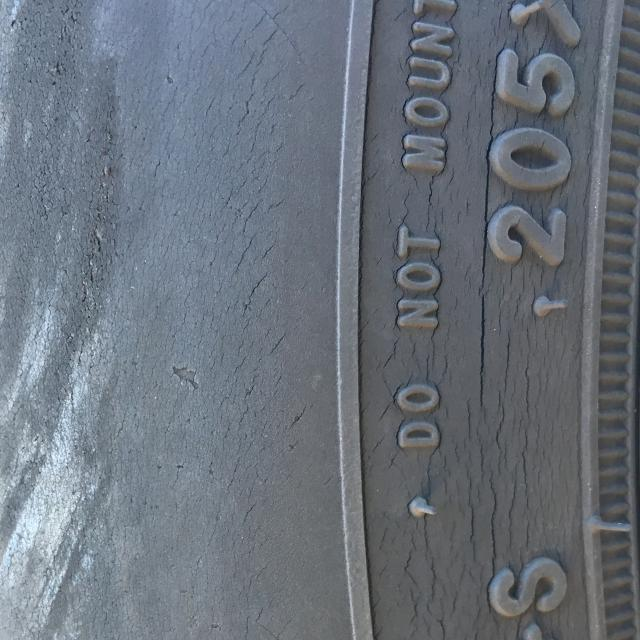Cracks: (349, 0, 613, 640), (154, 0, 314, 636), (0, 0, 123, 433)
